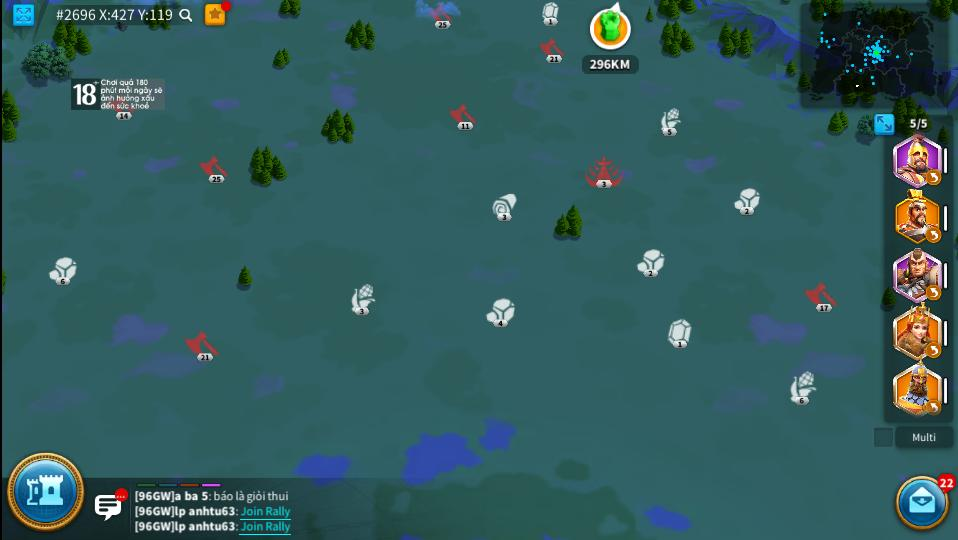gem-z-out: (666, 318, 691, 349), (543, 3, 558, 25)
march_returning: (925, 228, 942, 242), (926, 170, 940, 185), (927, 400, 941, 415), (926, 285, 940, 299), (928, 343, 940, 357)
